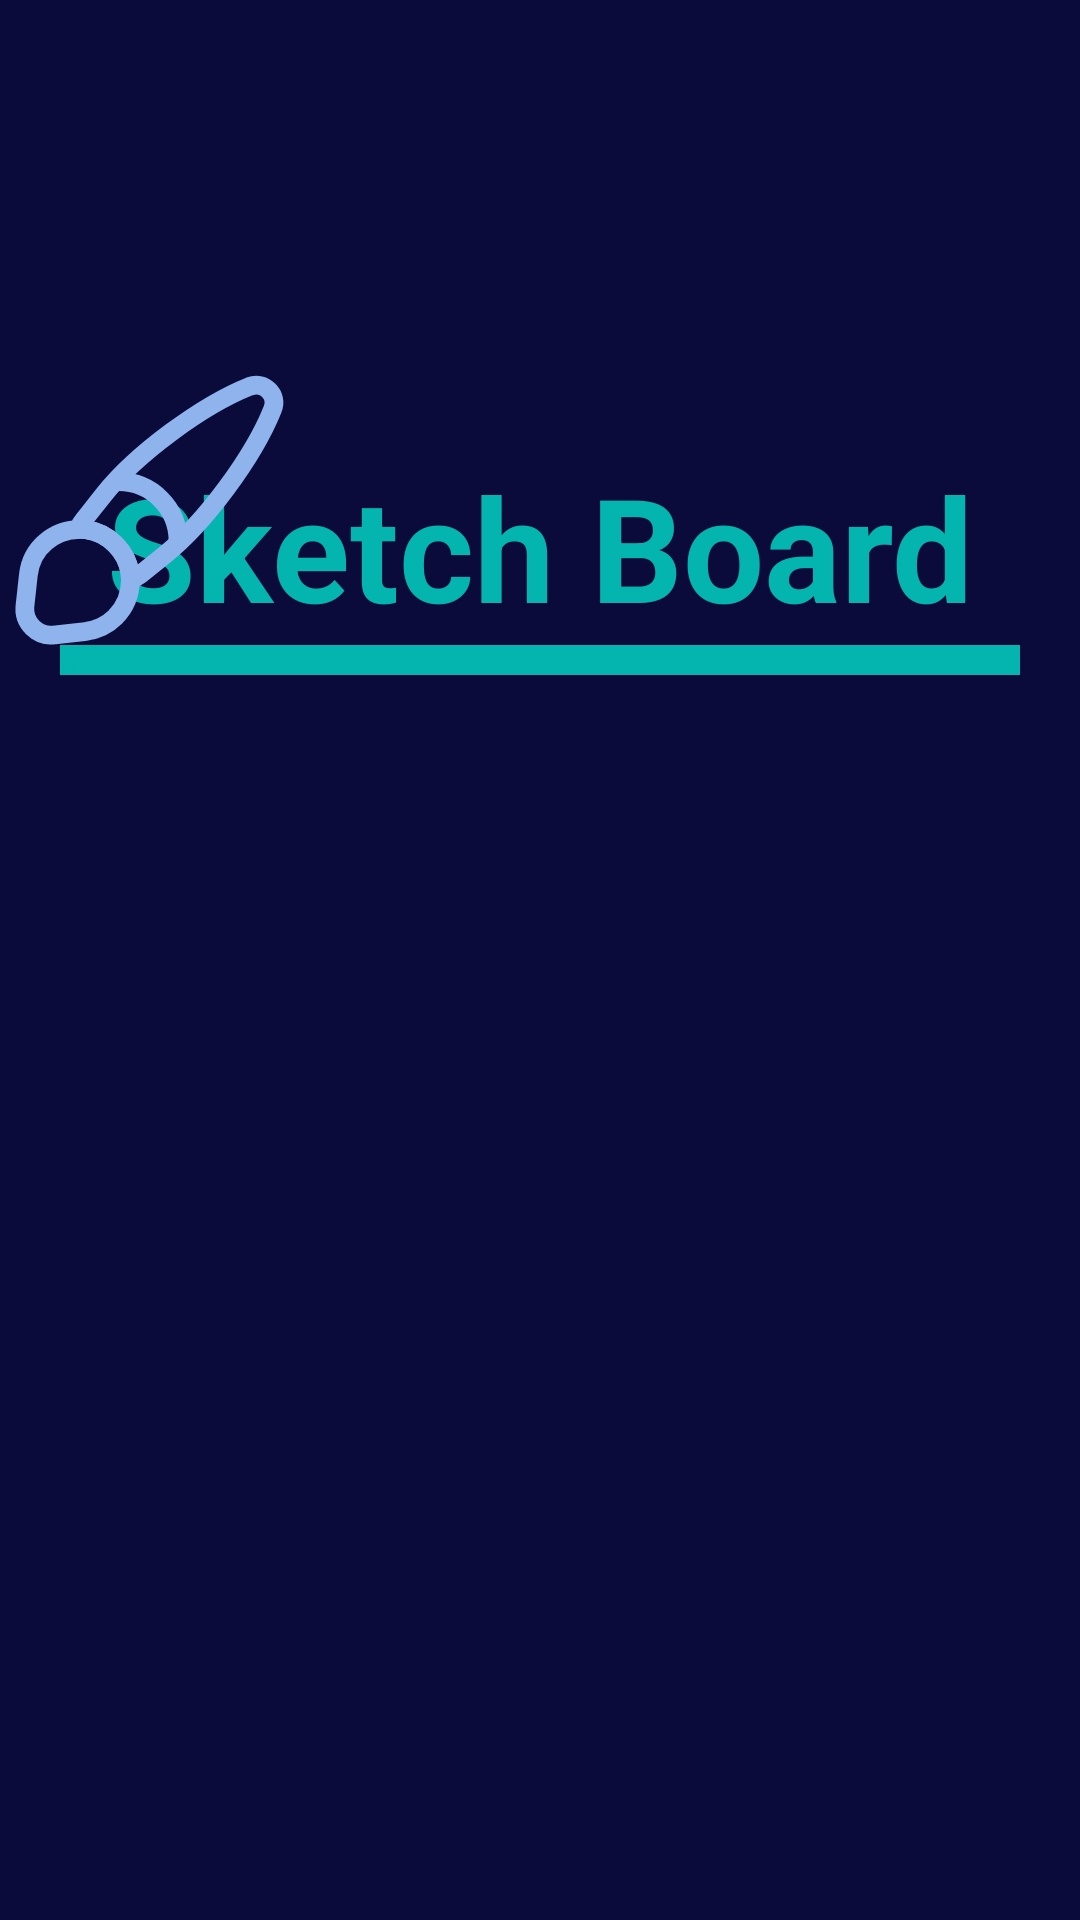

Icon click points for this 1080x1920 phone screenshot, format [x,y]:
brush: [149,510]
